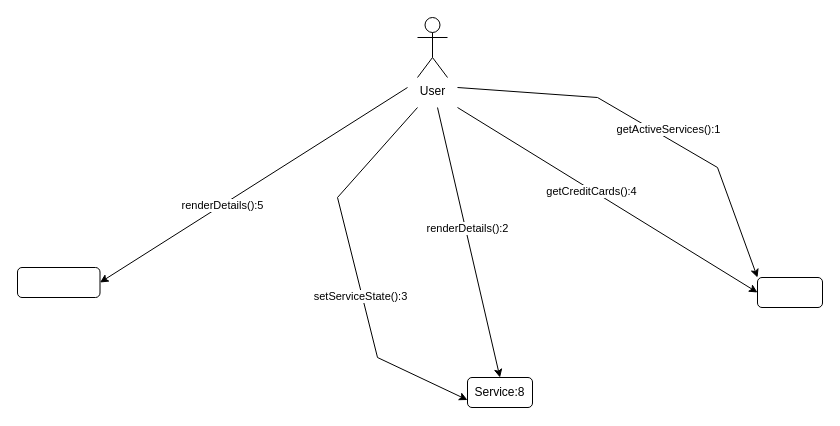
The diagram is 840 pixels wide and 426 high, and some of its shapes have lost their labels. Here are the shapes that lost their labels. From the top down, the centre of each, then its label:
At (58,282): "CreditCard:5".
At (789,292): "Account:1".
